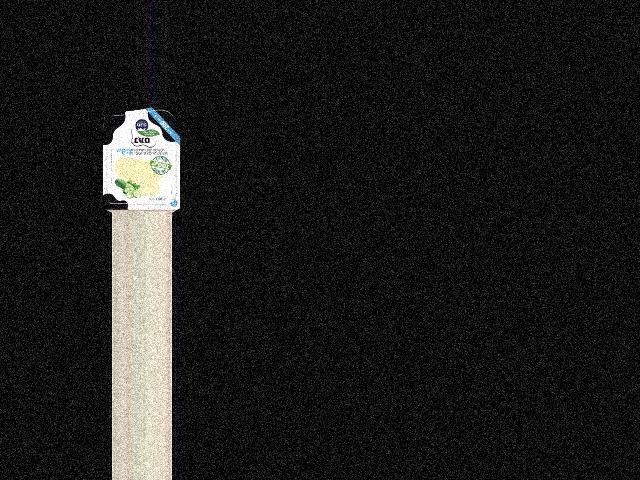cheese: (98, 109, 184, 213)
